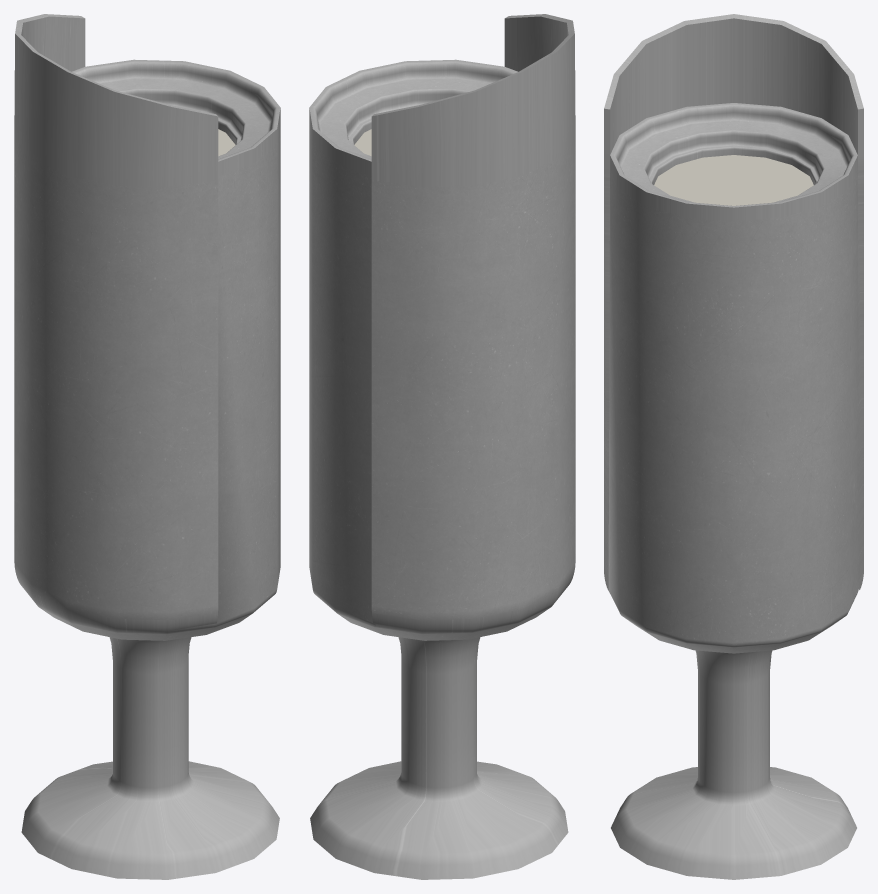
File: camera_1.fbx
3 views of the same model, side by side, from view 1: azimuth 30°, elevation 25°; view 2: azimuth 150°, elevation 25°; view 3: azimuth 270°, elevation 25° (orthographic). The views are drawn at different scales.
Parts seen in each view (by area): view 1: camera_1; view 2: camera_1; view 3: camera_1.
Boxes of the visible parts, x1,y1,x2,y2 form: camera_1: (14, 14, 280, 879); camera_1: (309, 14, 575, 879); camera_1: (604, 14, 863, 879).
Bounding box in the file's own units: 12.73 × 41.99 × 13.03.
3 materials, 1 textured.
